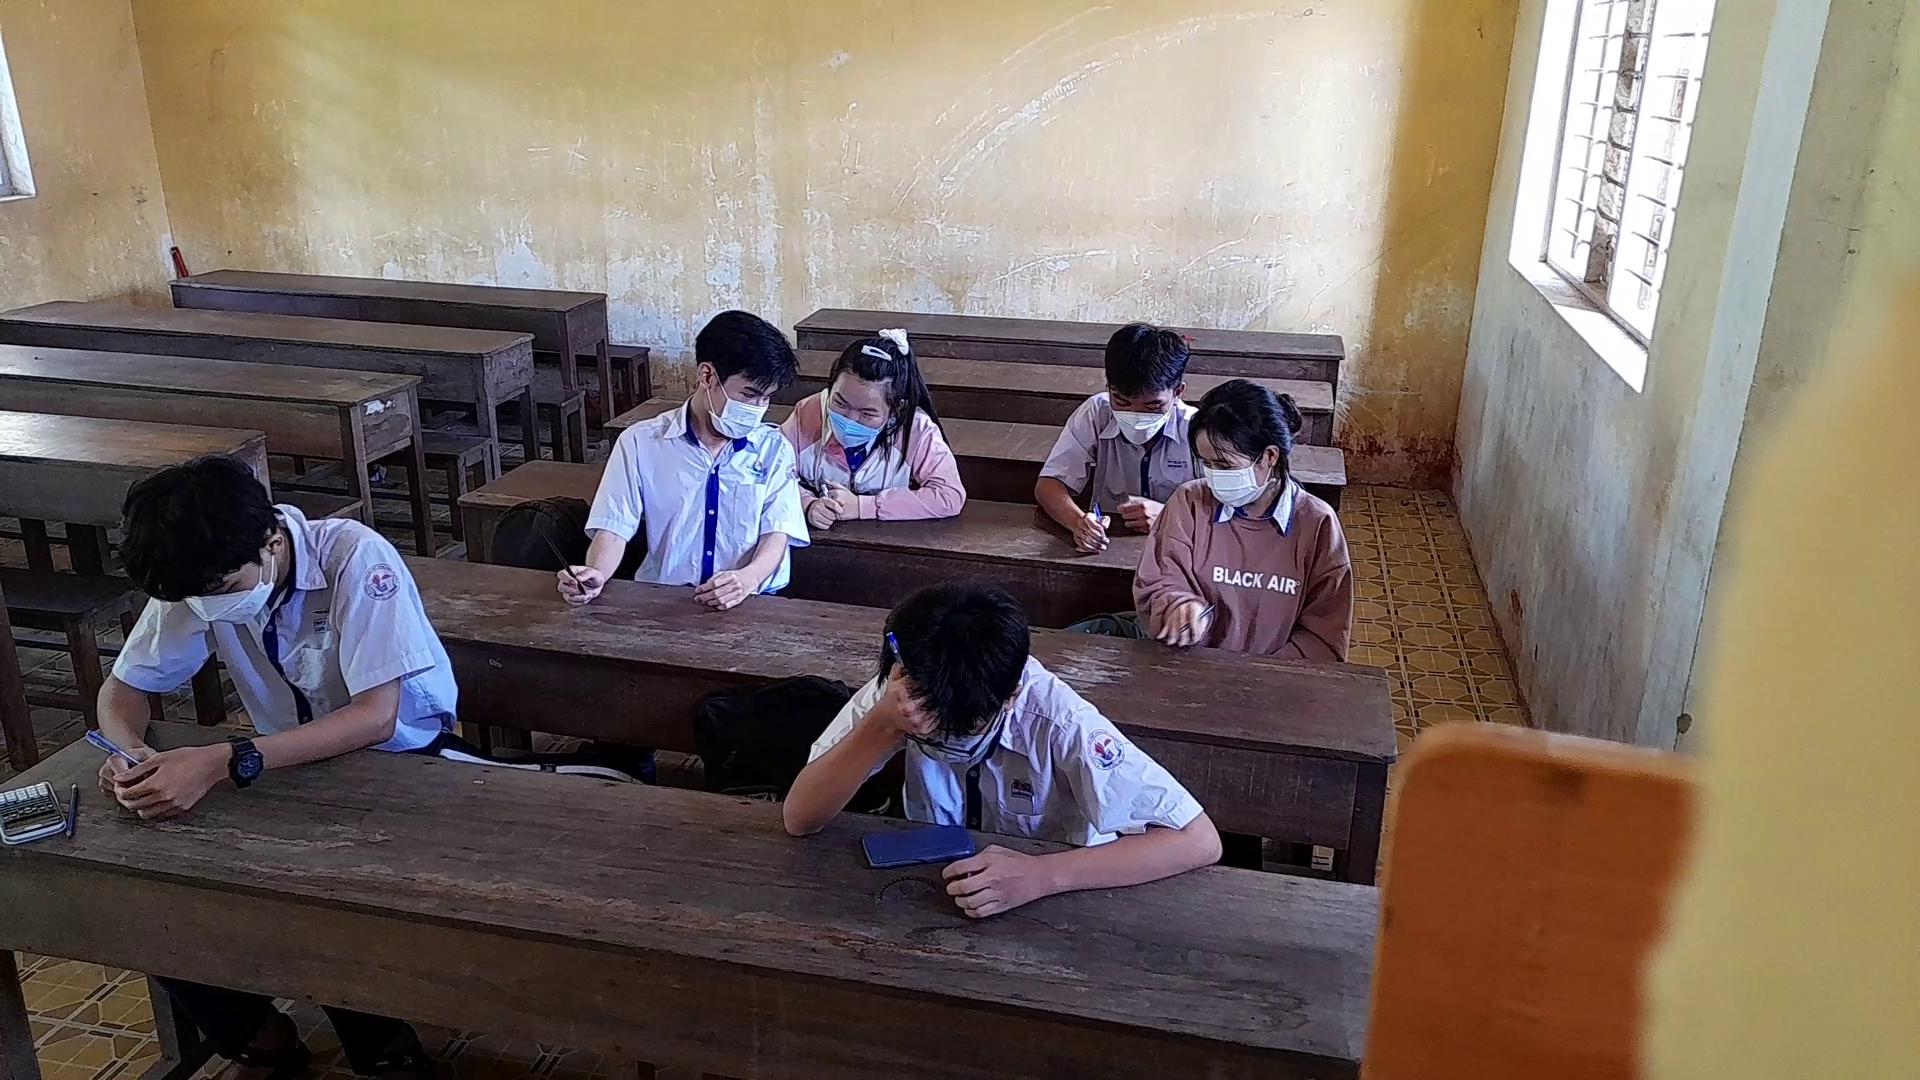Bend Over The Desk: (1163, 371, 1311, 531)
Look Around: (671, 306, 804, 454), (808, 306, 942, 454)
Normal: (771, 570, 1226, 919), (44, 458, 500, 806)
